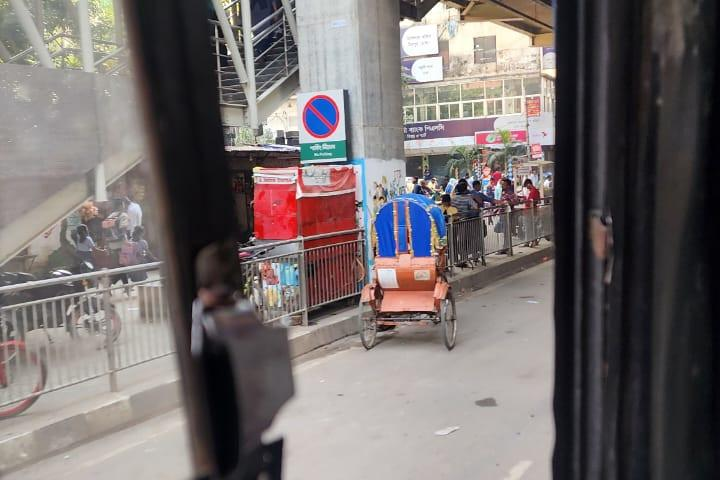No Parking: (297, 88, 348, 163)
